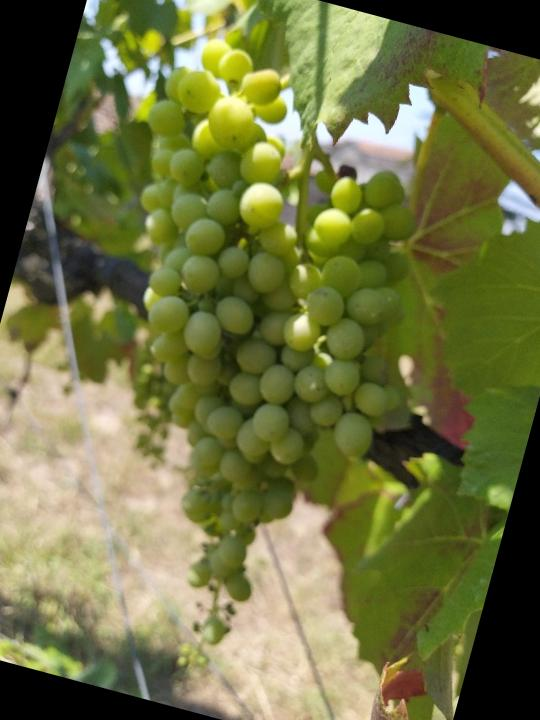grape: (11, 25, 479, 707)
